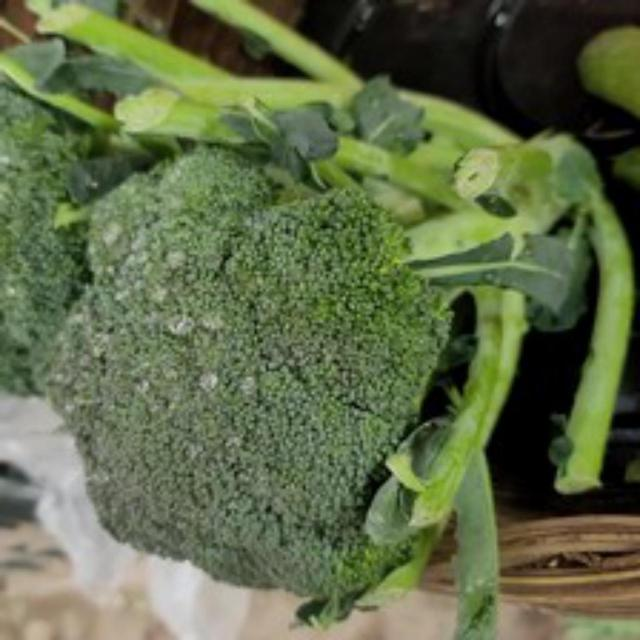broccoli: (50, 165, 462, 631)
